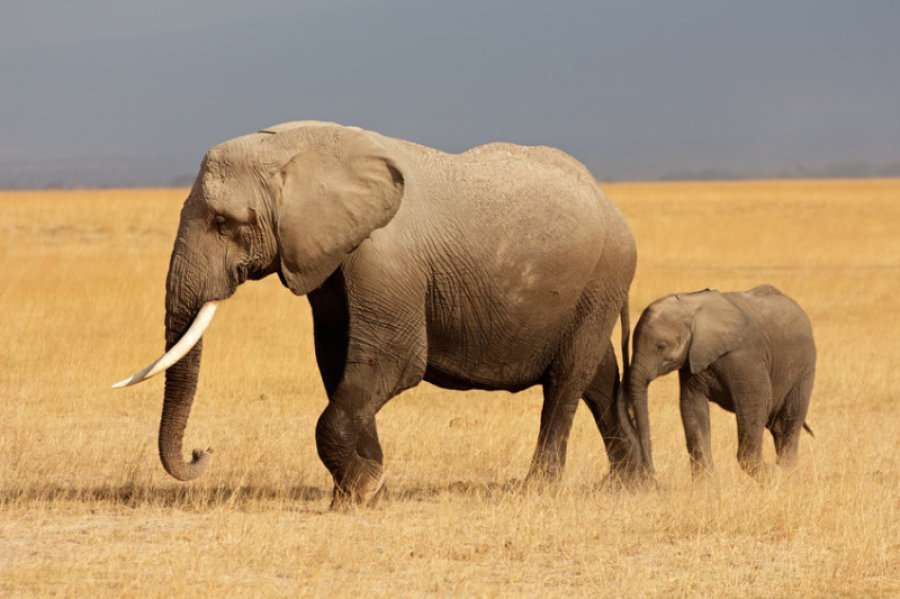elephant: (101, 105, 641, 515), (629, 286, 831, 491)
